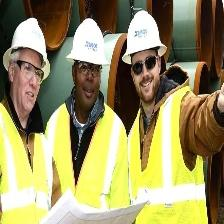Person: (122, 12, 205, 223), (46, 16, 126, 208), (1, 13, 53, 224)
helmet: (66, 17, 111, 79), (3, 16, 49, 72), (122, 13, 167, 65)
vest: (126, 82, 210, 224), (46, 102, 130, 219), (1, 101, 50, 223)
